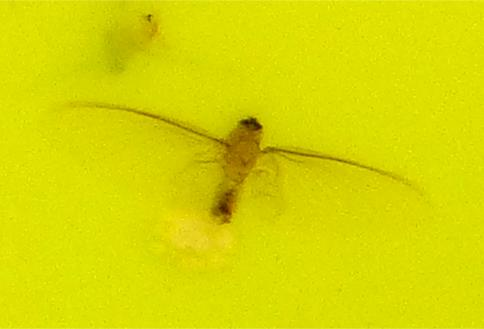Ephemeroptera: (100, 100, 384, 229)
